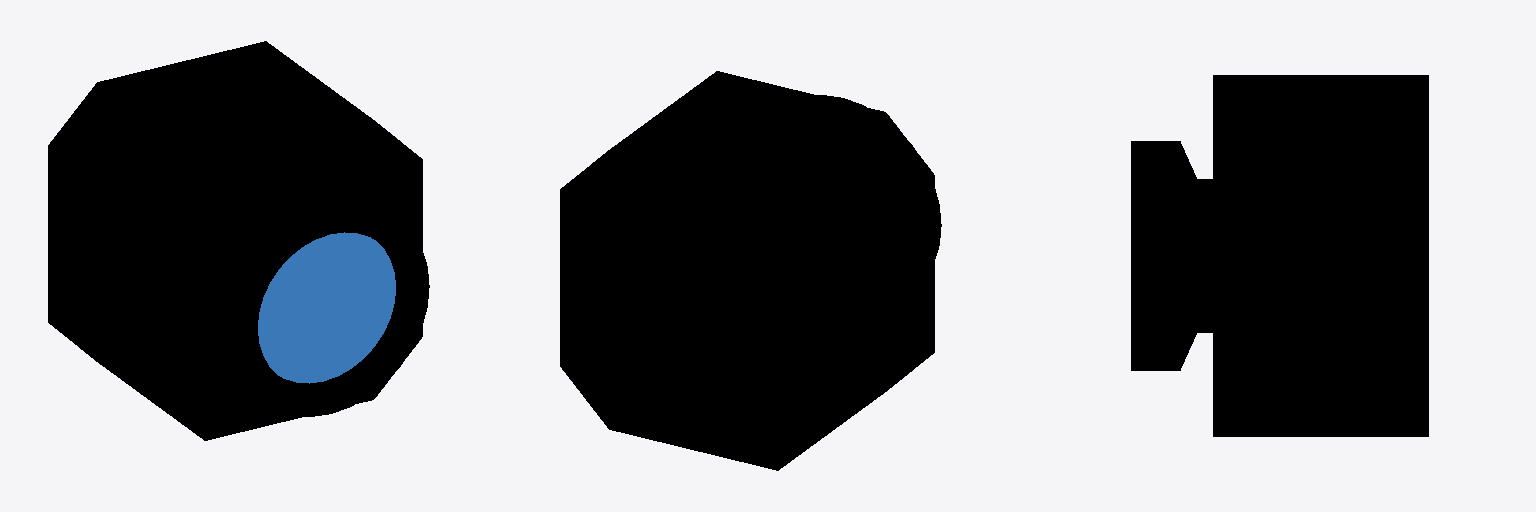
File: camera_module.obj
3 views of the same model, side by side, from view 1: azimuth 30°, elevation 25°; view 2: azimuth 150°, elevation 25°; view 3: azimuth 270°, elevation 25° (orthographic).
Parts seen in each view (by area): view 1: Cube; view 2: Cube; view 3: Cube.
Part boxes in pixels (x1,y1,x2,y2): Cube: (48,41,429,440); Cube: (560,71,941,470); Cube: (1131,75,1428,436).
Size of the model in its own units: 2 by 2 by 1.93.